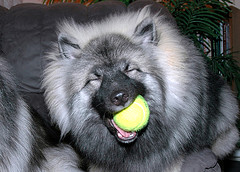tennis ball: (109, 91, 154, 134)
